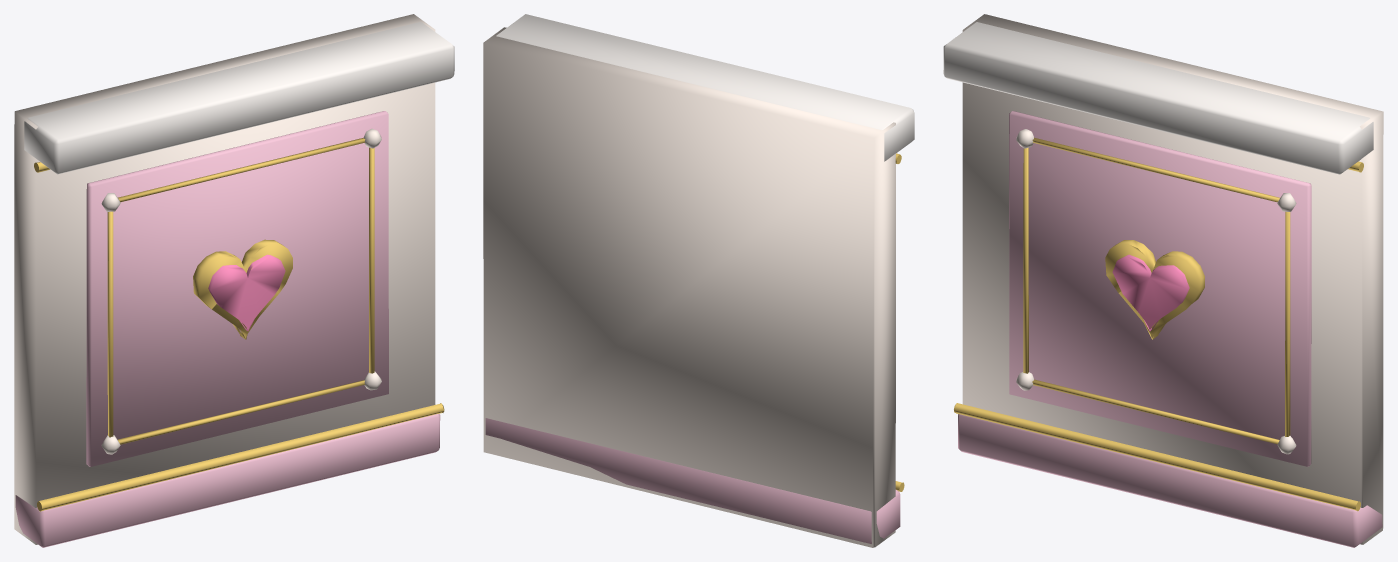
File: lod_wall_plain.glb
The picture shows the model from 3 angles, left to right: view 1: azimuth 30°, elevation 25°; view 2: azimuth 150°, elevation 25°; view 3: azimuth 330°, elevation 25°; orthographic projection. The views are drawn at different scales.
Parts seen in each view (by area): view 1: wall_plain; view 2: wall_plain; view 3: wall_plain.
Boxes of the visible parts, box(x1,y1,x2,y2) form: wall_plain: box(14, 14, 454, 547); wall_plain: box(483, 14, 914, 547); wall_plain: box(943, 14, 1383, 547).
Size of the model in its own units: 4 by 3.99 by 0.7359.
